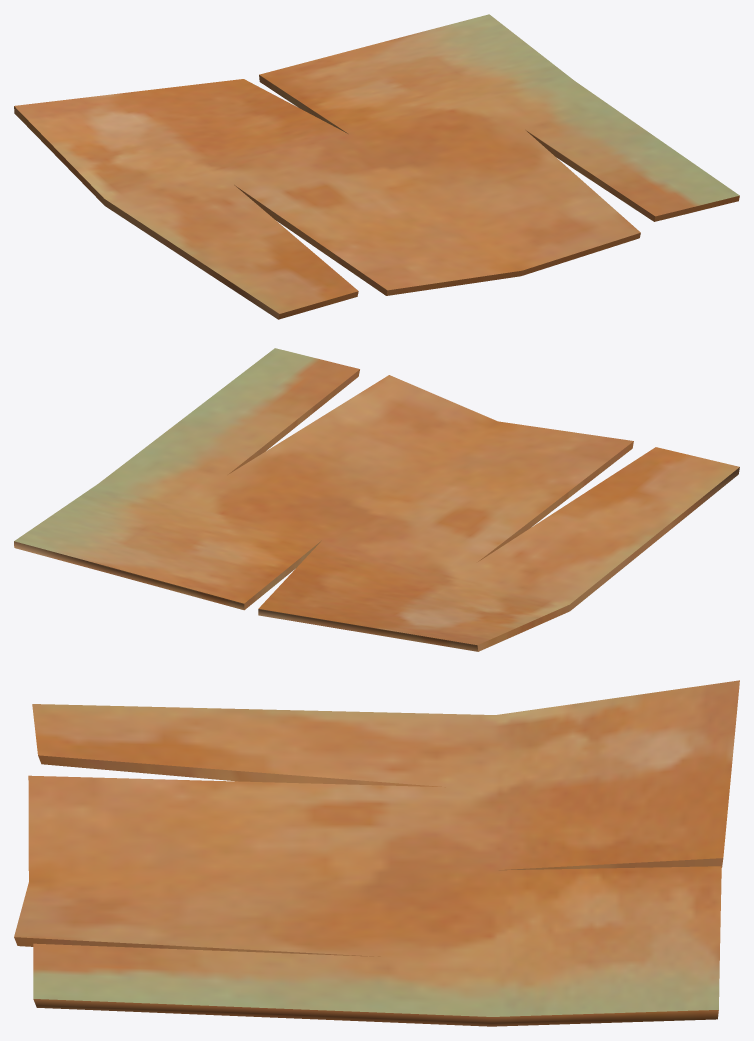
The model's file is tile_rust.fbx.
The picture shows the model from 3 angles, top to bottom: view 1: azimuth 30°, elevation 25°; view 2: azimuth 150°, elevation 25°; view 3: azimuth 270°, elevation 25°; orthographic projection. The views are drawn at different scales.
Visible parts, largest first — view 1: tile_rust; view 2: tile_rust; view 3: tile_rust.
Boxes of the visible parts, <box> form: tile_rust: <box>14,14,739,319</box>; tile_rust: <box>14,348,739,651</box>; tile_rust: <box>14,680,739,1026</box>.
Size of the model in its own units: 192 by 14.68 by 192.
